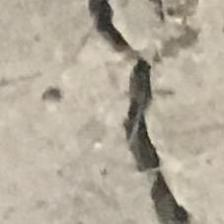Crack: (71, 0, 224, 224)
